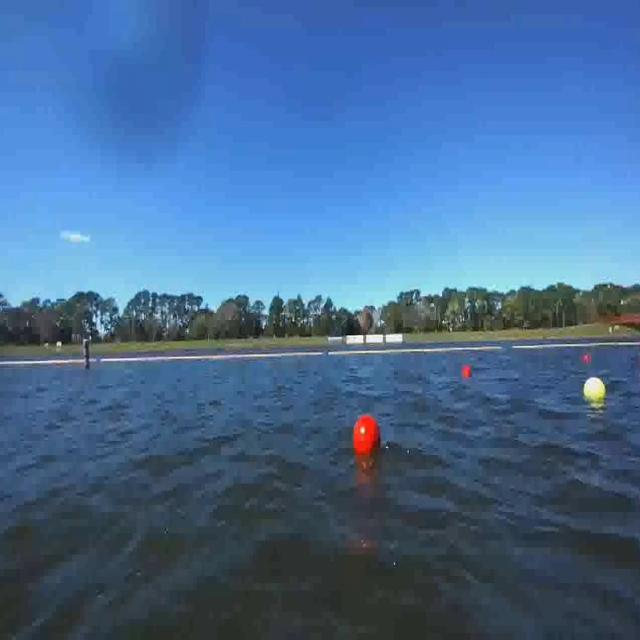red-buoy: (353, 414, 379, 457), (462, 364, 472, 378), (584, 355, 592, 361)
yellow-buoy: (581, 376, 604, 399)
